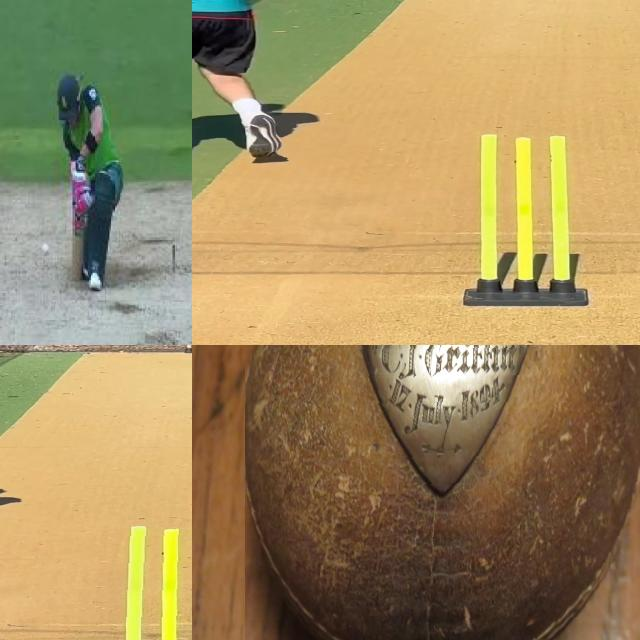Cricket ball: (245, 345, 640, 640), (42, 242, 52, 257)
Stumps: (458, 131, 593, 308), (108, 522, 192, 640)
